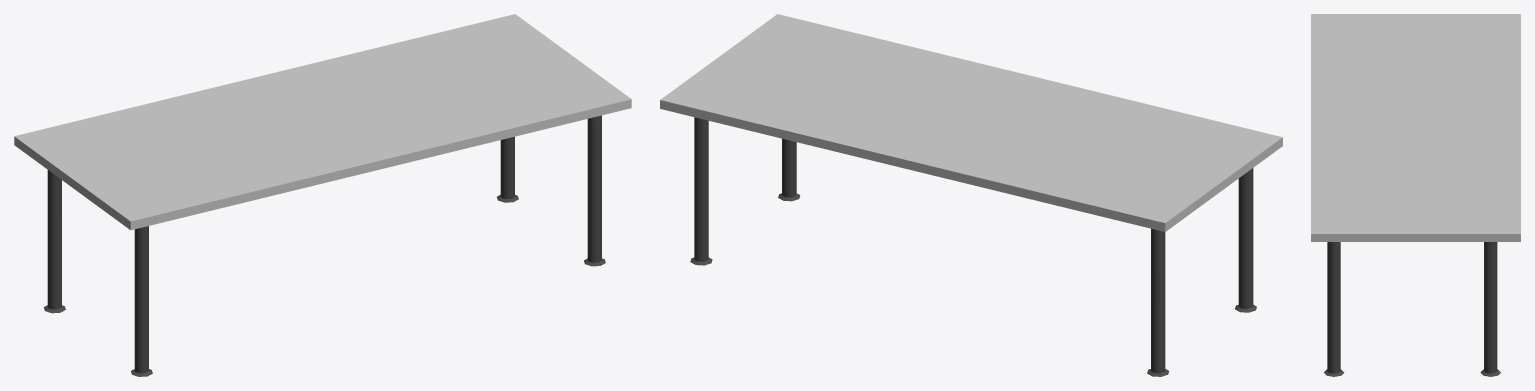
The model's file is Mesa.fbx.
3 views of the same model, side by side, from view 1: azimuth 30°, elevation 25°; view 2: azimuth 150°, elevation 25°; view 3: azimuth 270°, elevation 25° (orthographic). The views are drawn at different scales.
Parts seen in each view (by area): view 1: Mesa; view 2: Mesa; view 3: Mesa.
Part boxes in pixels (<box>): Mesa: <box>14,14,631,376</box>; Mesa: <box>660,14,1282,376</box>; Mesa: <box>1311,14,1520,376</box>.
Bounding box in the file's own units: 301 × 95.18 × 121.
